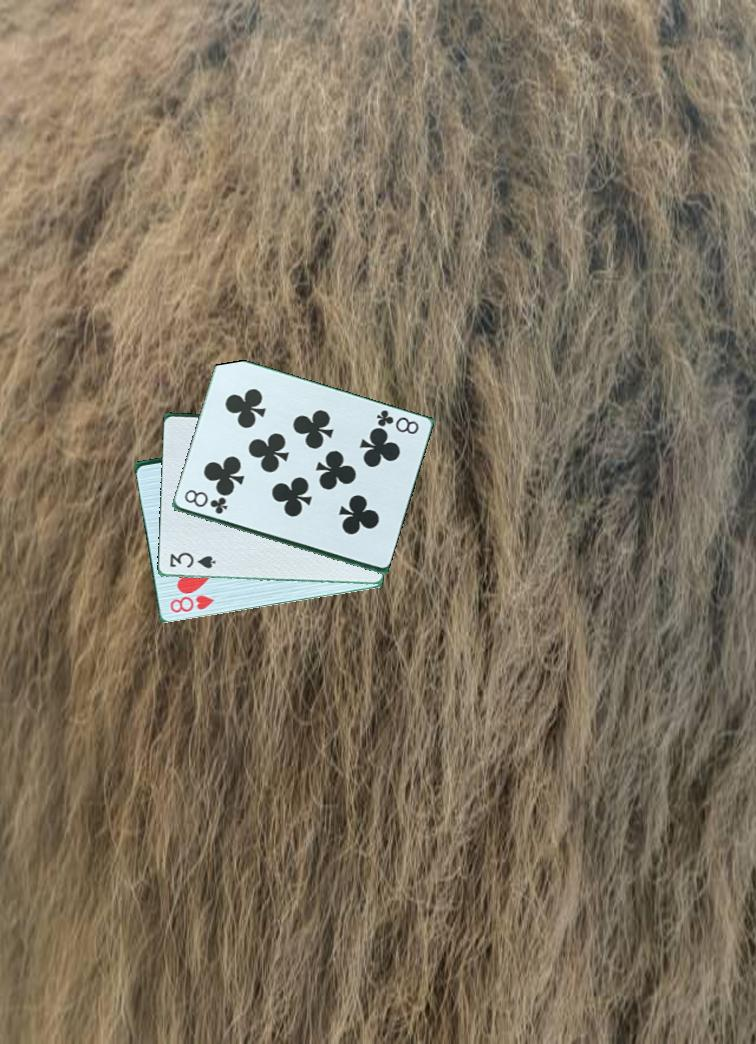3s: (166, 551, 218, 572)
8c: (370, 406, 421, 438), (180, 487, 230, 517)
8h: (166, 592, 217, 616)
